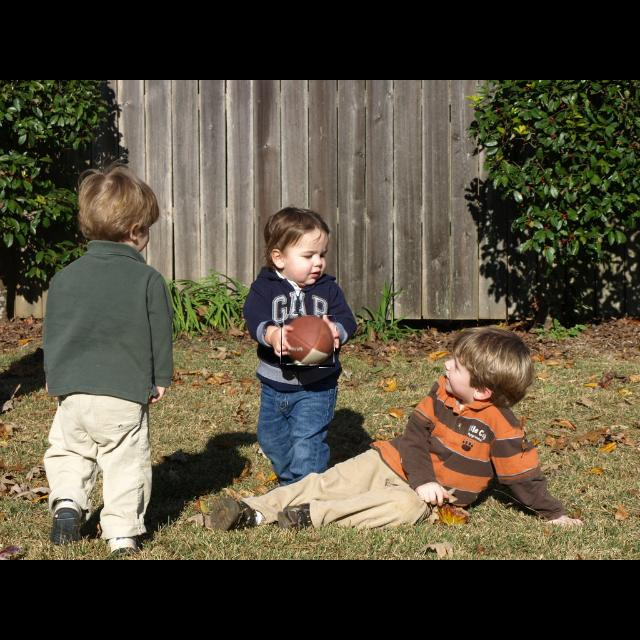Football: (281, 315, 335, 367)
